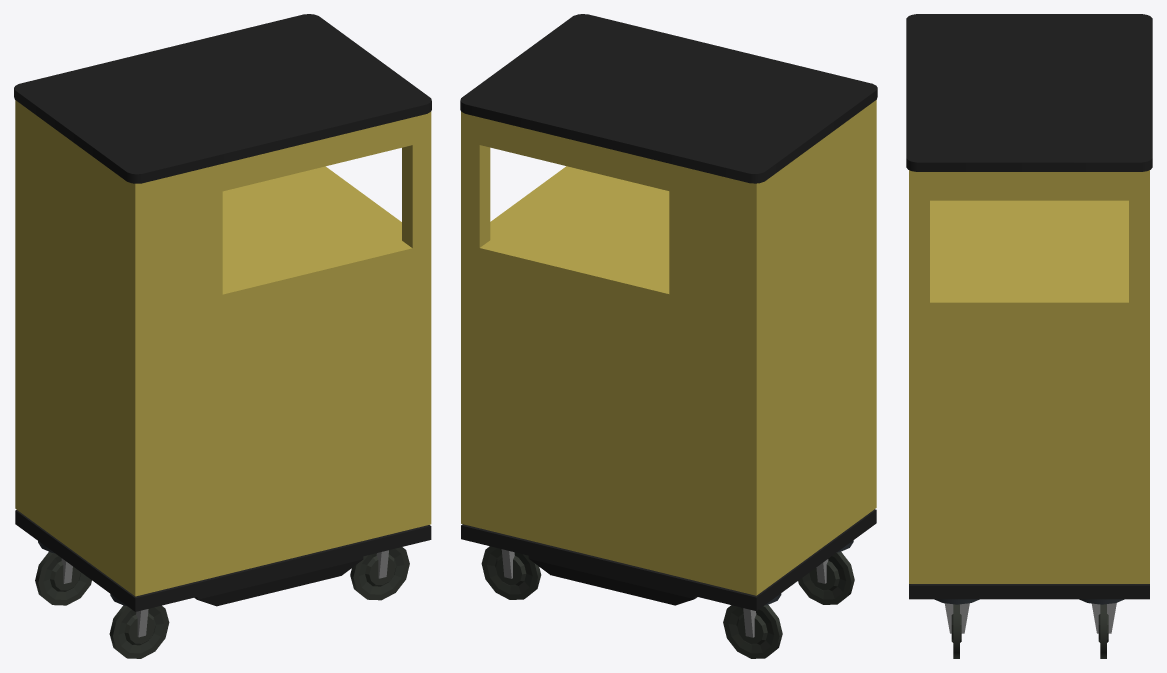
File: SM_rolling_container.fbx
The picture shows the model from 3 angles, left to right: view 1: azimuth 30°, elevation 25°; view 2: azimuth 150°, elevation 25°; view 3: azimuth 270°, elevation 25°; orthographic projection.
Parts seen in each view (by area): view 1: rolling_container; view 2: rolling_container; view 3: rolling_container.
Boxes of the visible parts, x1,y1,x2,y2 form: rolling_container: (14,14,431,658); rolling_container: (460,14,877,658); rolling_container: (906,14,1152,658).
Size of the model in its own units: 69.1 by 110 by 48.47.
